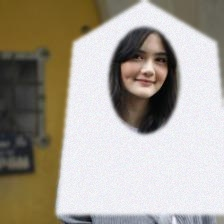Mukena: (56, 0, 224, 215)
